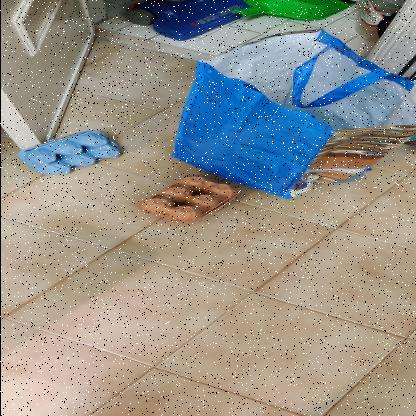cardboard: (138, 175, 238, 223), (17, 130, 121, 175)
